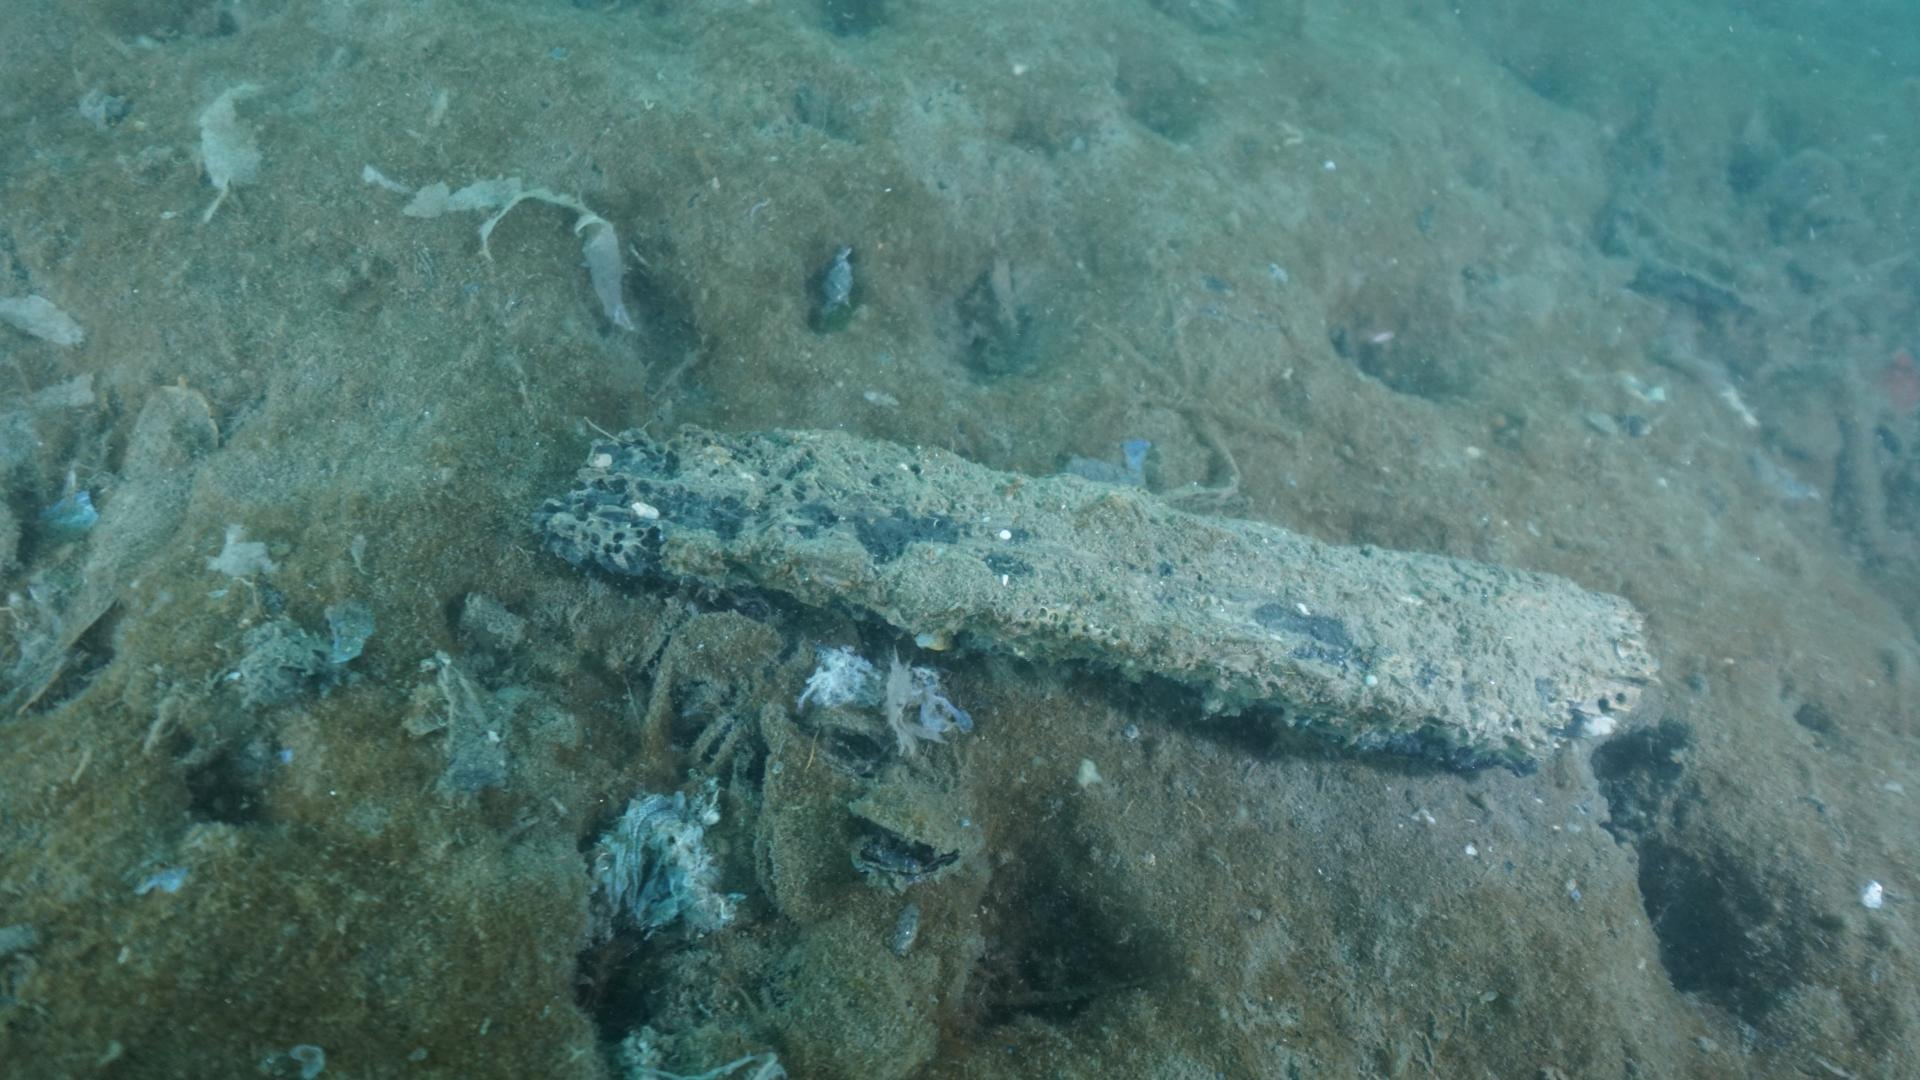wood: (533, 415, 1667, 789)
